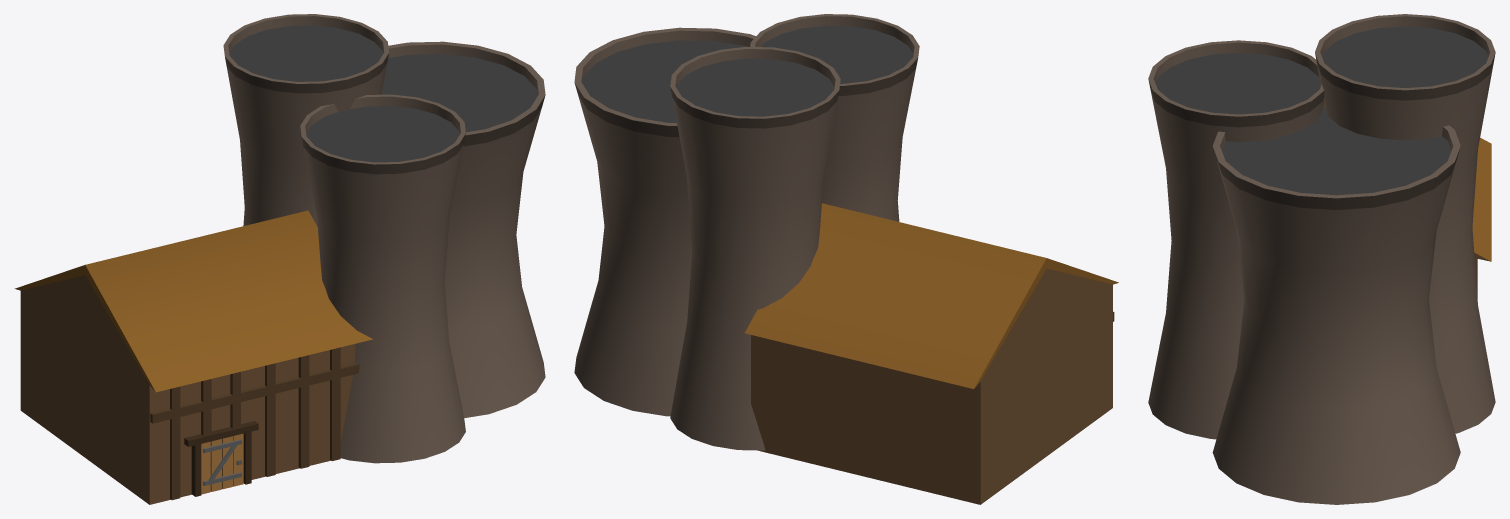
File: Factory.fbx
3 views of the same model, side by side, from view 1: azimuth 30°, elevation 25°; view 2: azimuth 150°, elevation 25°; view 3: azimuth 270°, elevation 25° (orthographic). The views are drawn at different scales.
Visible parts, largest first — view 1: Factory; view 2: Factory; view 3: Factory.
Part boxes in pixels (<box>): Factory: <box>14,14,545,504</box>; Factory: <box>574,14,1118,504</box>; Factory: <box>1148,14,1495,504</box>.
Size of the model in its own units: 6.46 by 4.5 by 4.02.
